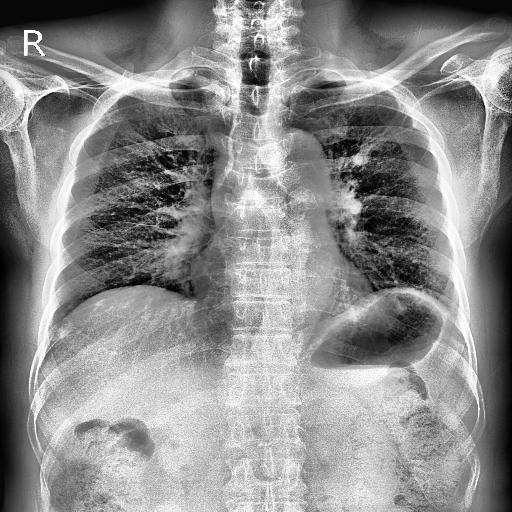0- Aortic enlargement: (210, 127, 324, 229), (265, 129, 332, 203), (270, 128, 329, 198)
11- Pleural thickening: (156, 68, 198, 78)
